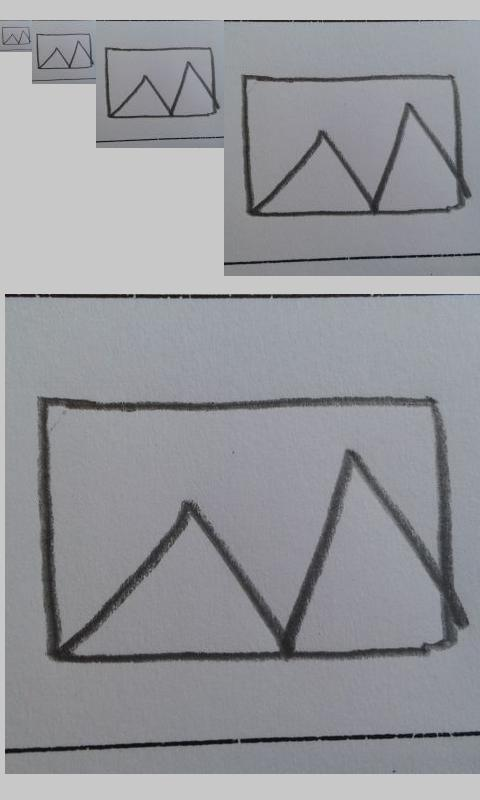image_view: (36, 396, 454, 666), (241, 74, 464, 218), (104, 46, 217, 119), (36, 33, 93, 70), (1, 26, 31, 46)
